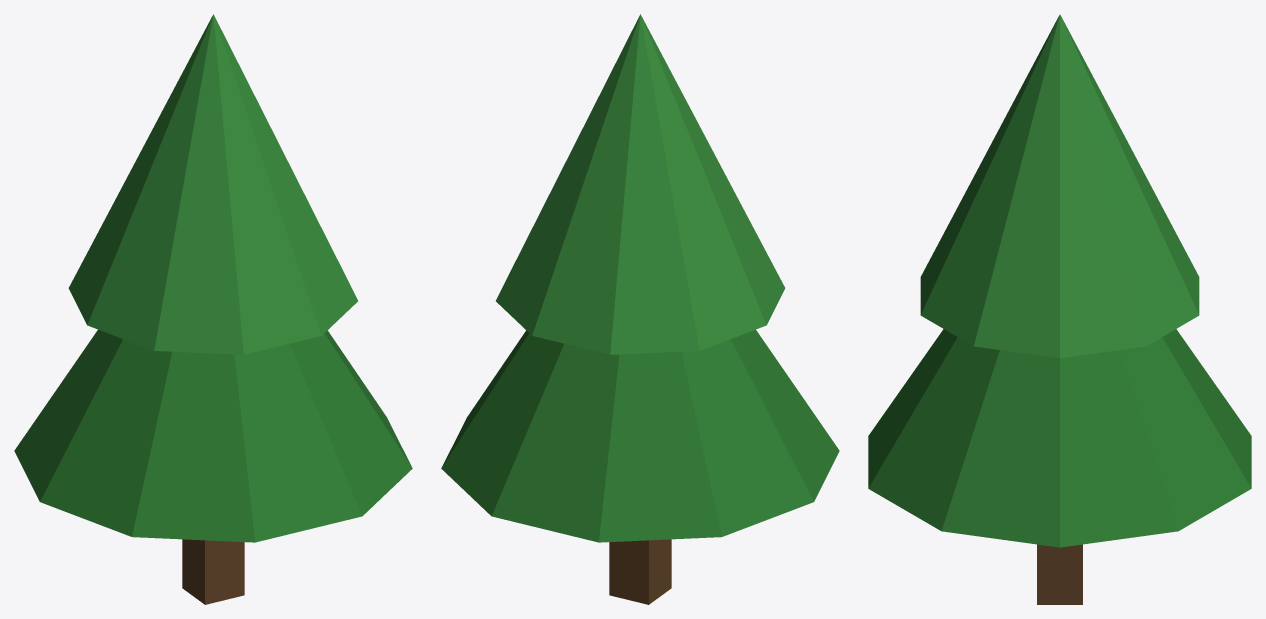
Rendered from tree.glb.
3 views of the same model, side by side, from view 1: azimuth 30°, elevation 25°; view 2: azimuth 150°, elevation 25°; view 3: azimuth 270°, elevation 25° (orthographic).
Bounding box in the file's own units: 4.4 × 7 × 4.18.
